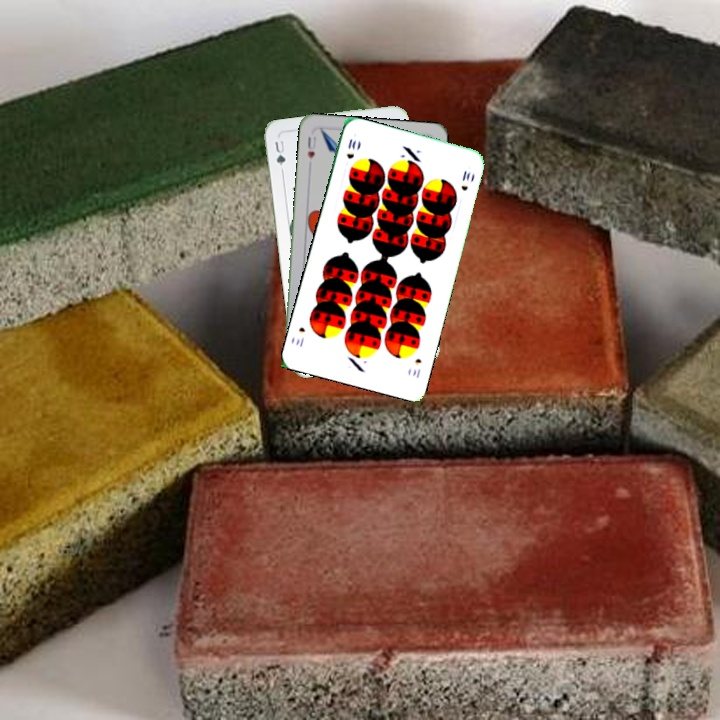GU: (271, 136, 288, 174)
HU: (304, 133, 319, 161)
S10: (343, 134, 359, 161), (409, 355, 424, 380)
